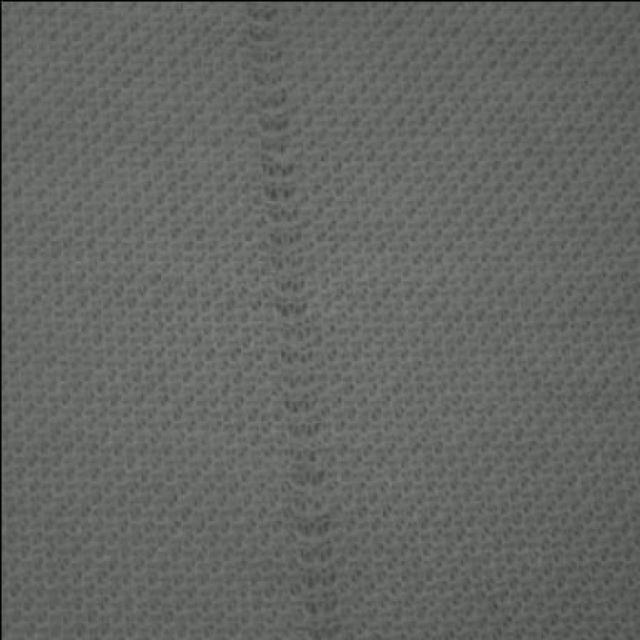Line: (244, 2, 342, 640)
